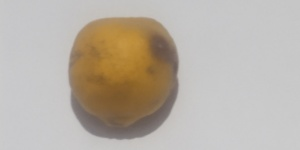BAD: (68, 18, 180, 133)
